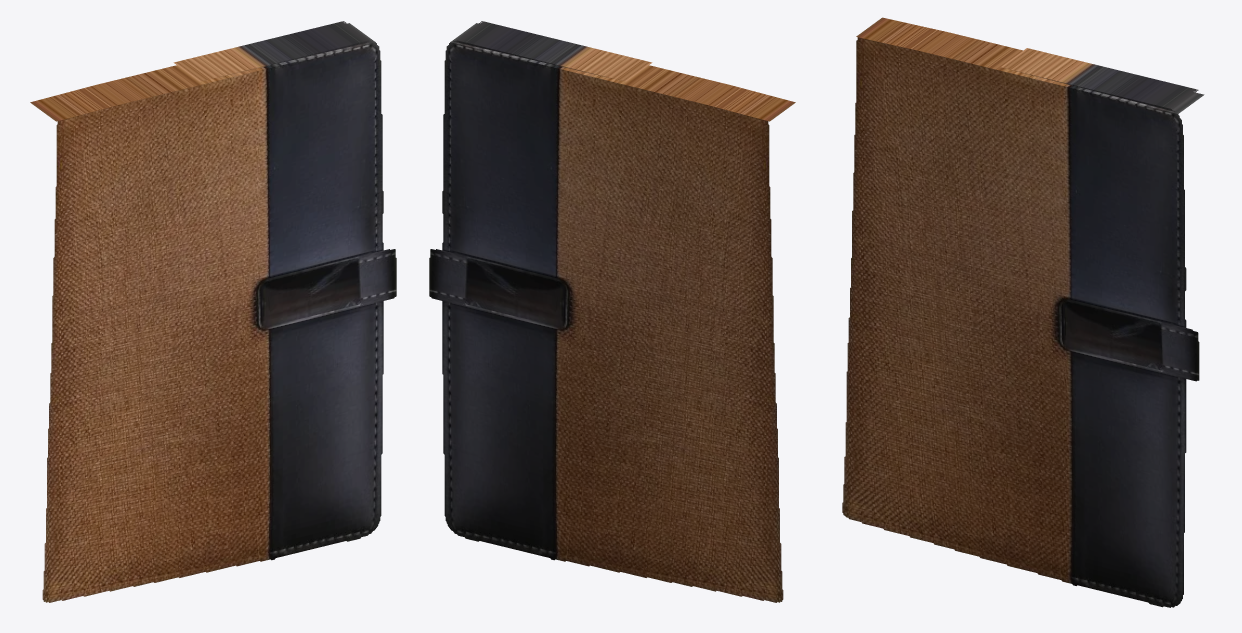
3 renders of one model, left to right at view 1: azimuth 30°, elevation 25°; view 2: azimuth 150°, elevation 25°; view 3: azimuth 330°, elevation 25°, orthographic.
Parts seen in each view (by area): view 1: RC-019; view 2: RC-019; view 3: RC-019.
Part boxes in pixels (bbox=[...]): RC-019: bbox=[30, 21, 396, 602]; RC-019: bbox=[429, 21, 795, 602]; RC-019: bbox=[842, 17, 1204, 607].
Bounding box in the file's own units: 15.8 × 21 × 2.
1 material, 1 textured.
